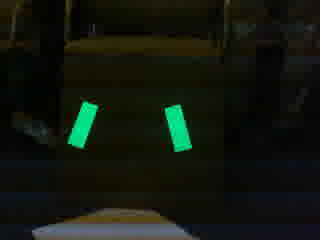target: (66, 100, 196, 155)
